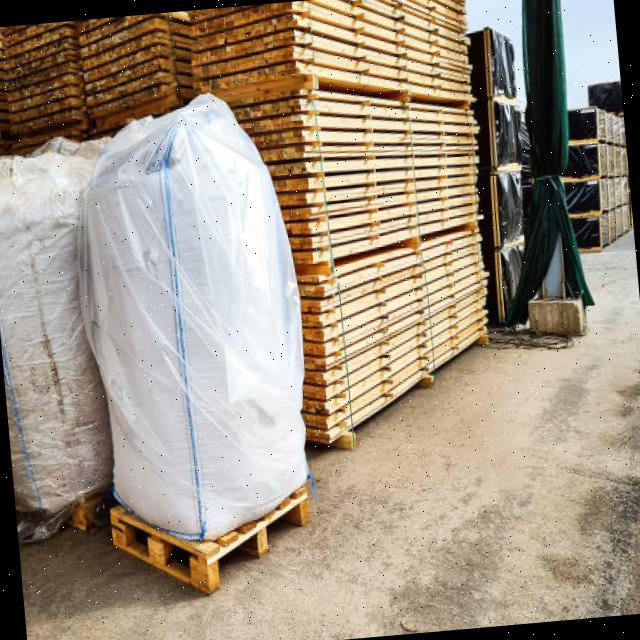Wooden-Pallets: (106, 486, 312, 597)
